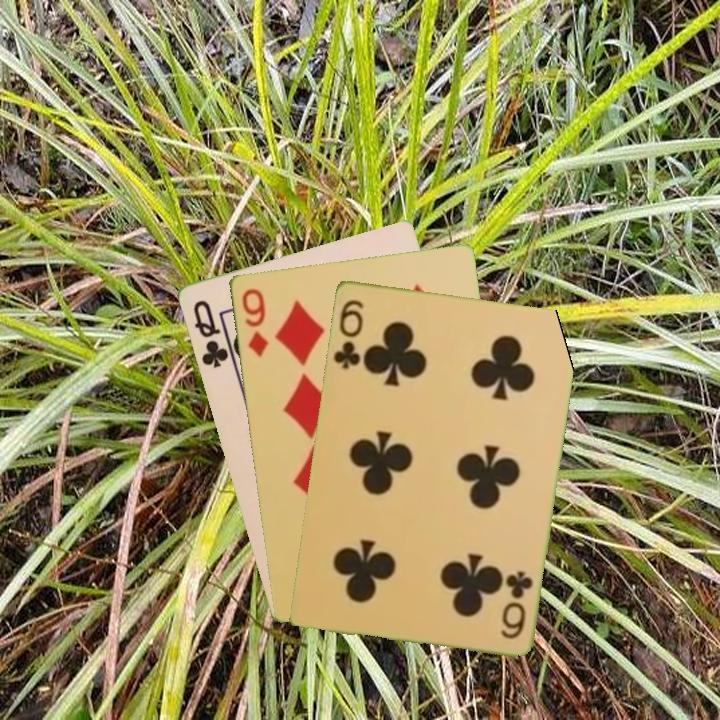6c: (497, 566, 536, 642), (329, 295, 366, 371)
9d: (238, 285, 271, 360)
Qc: (189, 296, 231, 371)
